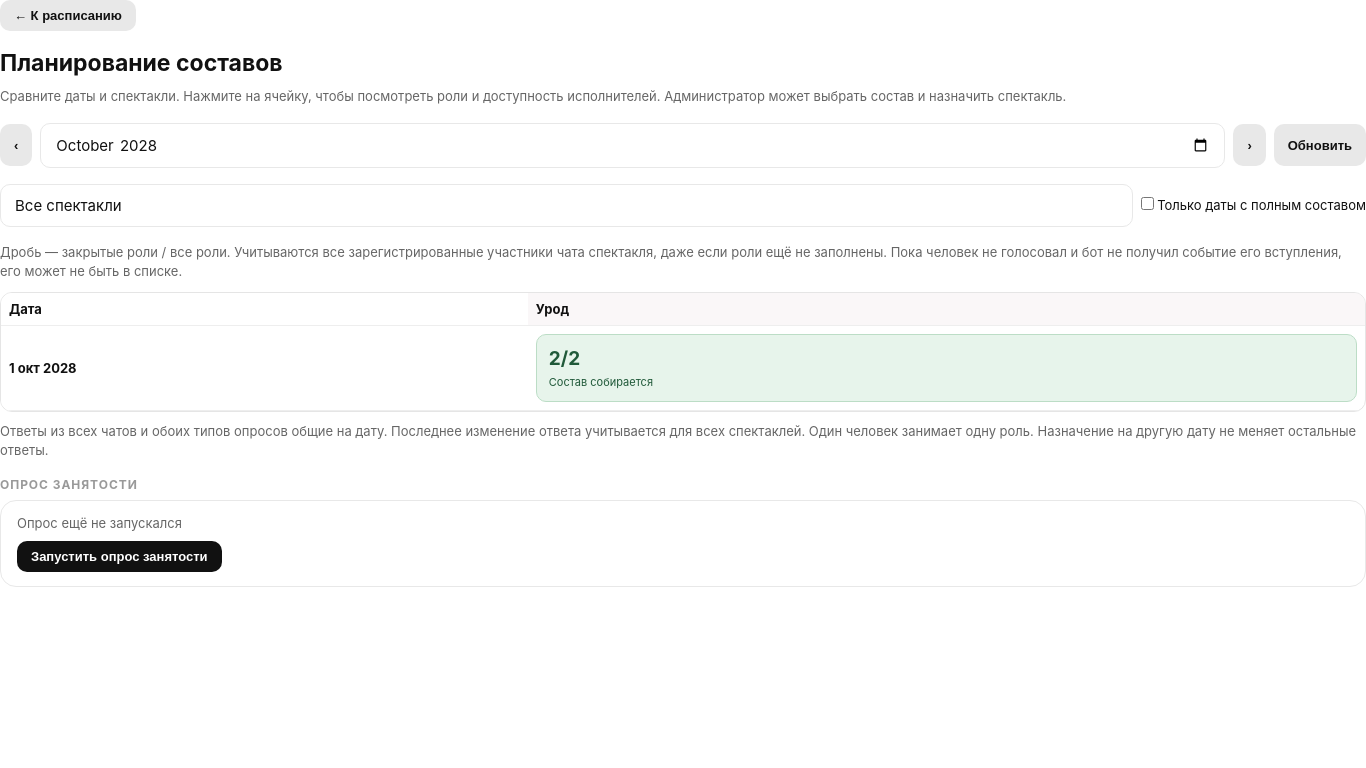
changed votes require refresh before any retry
Click the button "2/2 Состав собирается" at (601, 382), box [536,334,1357,402]
(page scrolled)
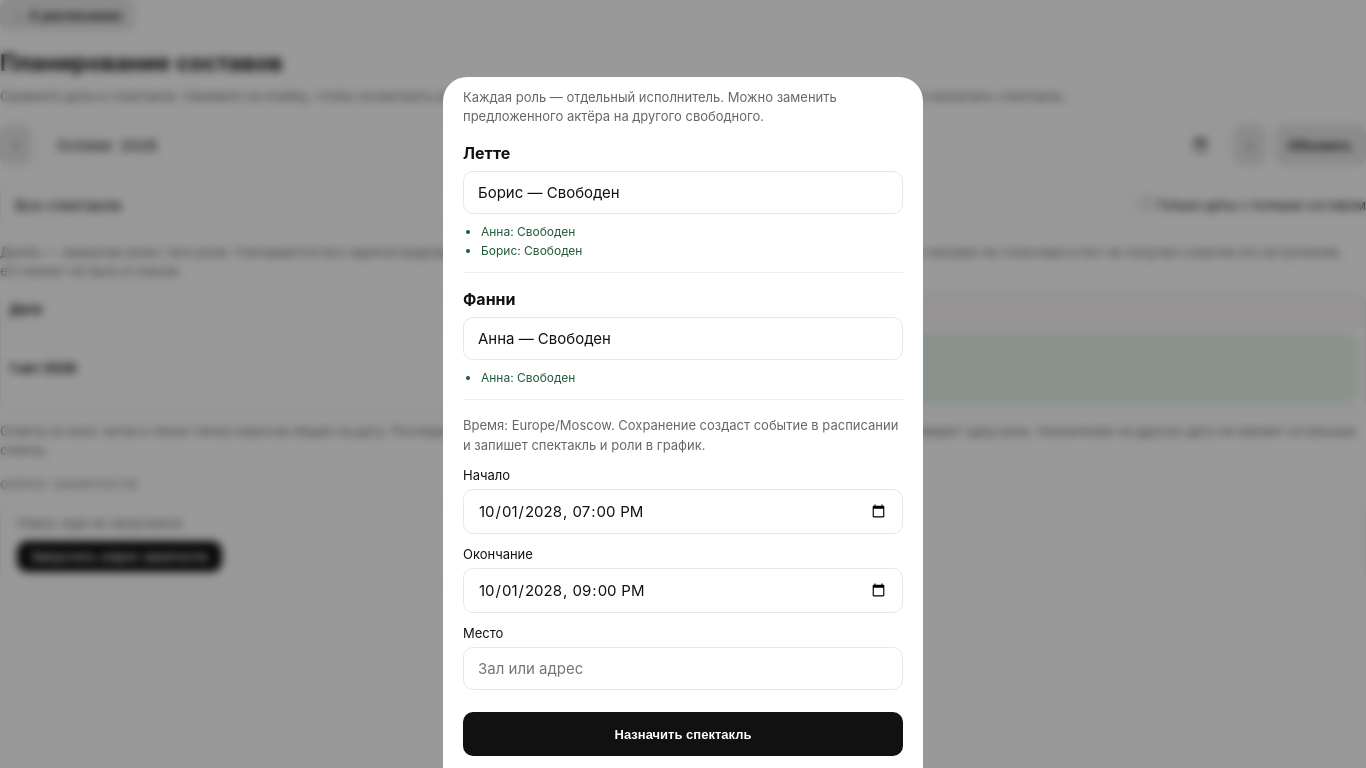
Submit the form, box [463,88,903,756]
(page scrolled)
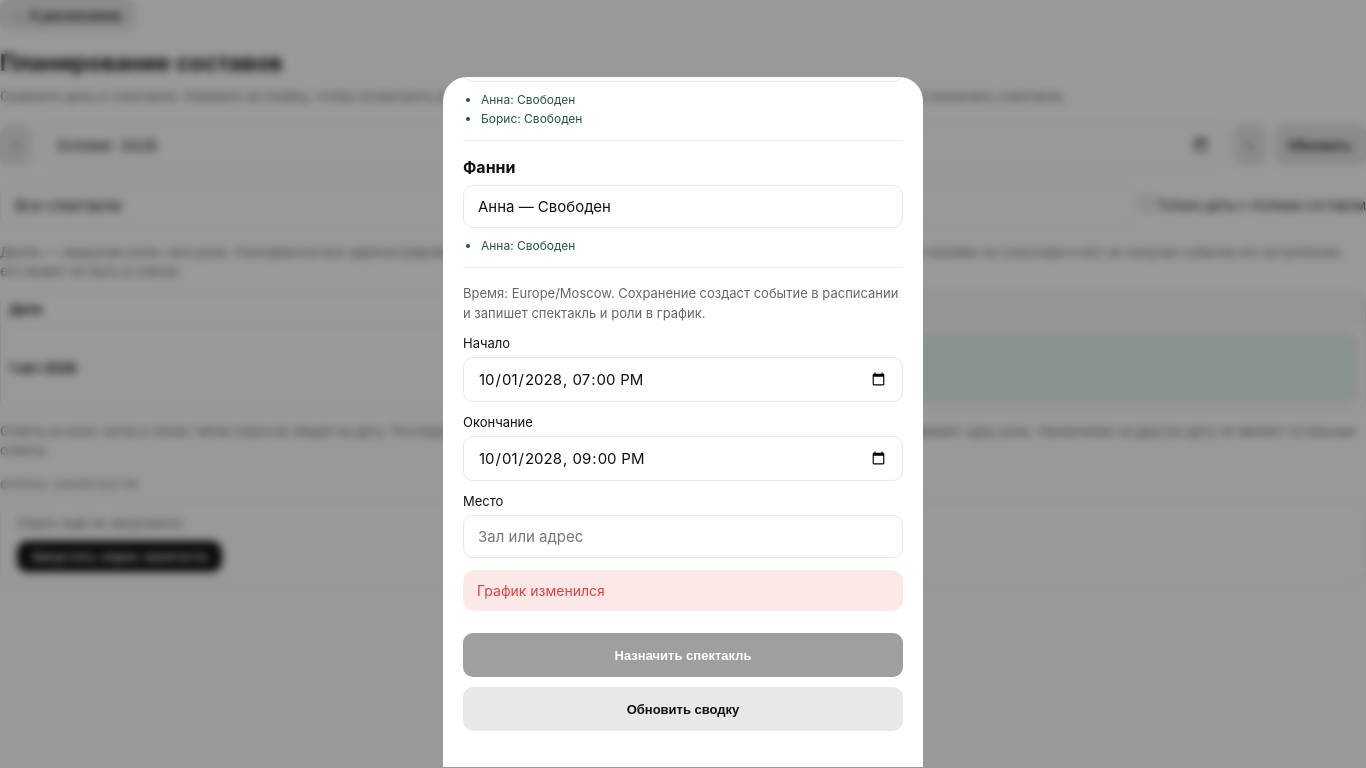
Expected: the text "График изменился" is shown, [463,570,903,611]
Expected: the button "Назначить спектакль" is disabled, [463,633,903,677]
Expected: the button "Обновить сводку" is shown, [463,687,903,731]
